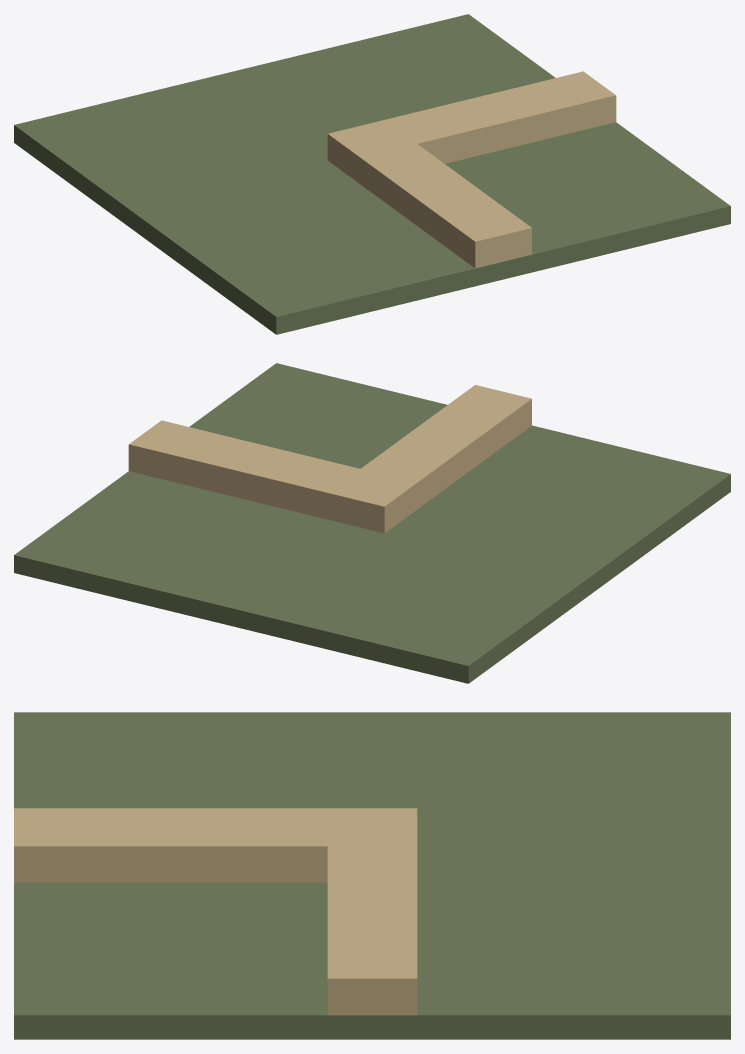
The model's file is terrain_tile_bank_corner.glb.
3 renders of one model, top to bottom at view 1: azimuth 30°, elevation 25°; view 2: azimuth 150°, elevation 25°; view 3: azimuth 270°, elevation 25°, orthographic. The views are drawn at different scales.
Parts seen in each view (by area): view 1: terrain_tile_bank_corner; view 2: terrain_tile_bank_corner; view 3: terrain_tile_bank_corner.
Part boxes in pixels (x1=…): terrain_tile_bank_corner: x1=14, y1=14, x2=730, y2=334; terrain_tile_bank_corner: x1=14, y1=363, x2=730, y2=683; terrain_tile_bank_corner: x1=14, y1=712, x2=730, y2=1039.
Bounding box in the file's own units: 8 × 0.75 × 8.
